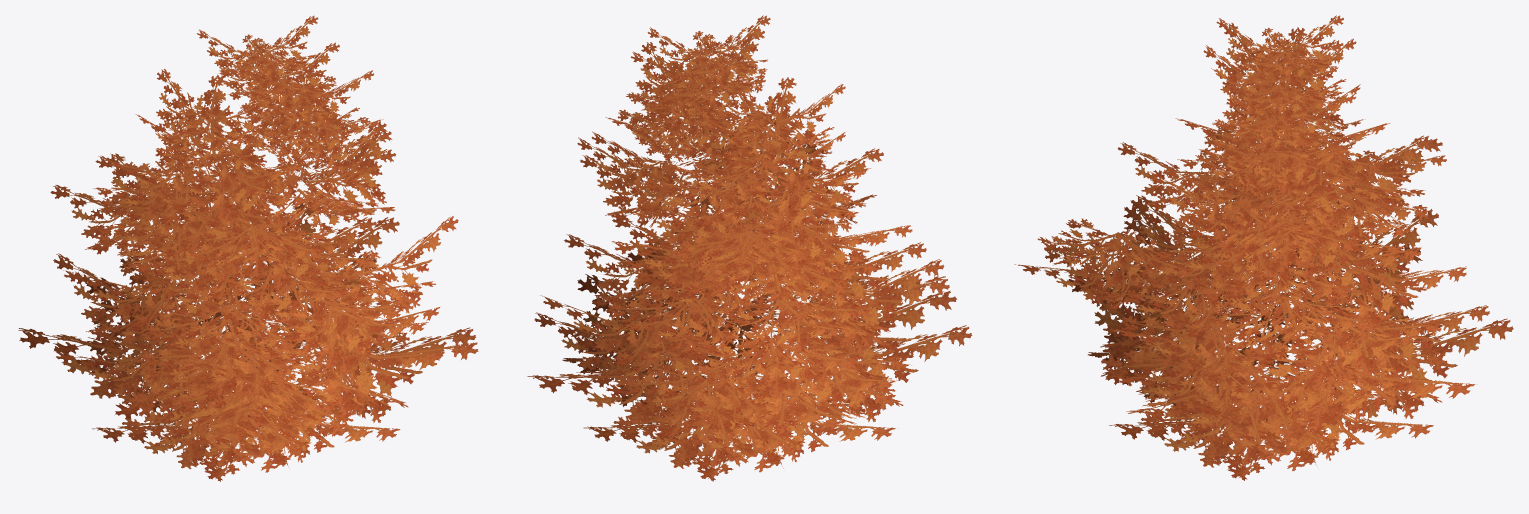
The picture shows the model from 3 angles, left to right: view 1: azimuth 30°, elevation 25°; view 2: azimuth 150°, elevation 25°; view 3: azimuth 270°, elevation 25°; orthographic projection. The views are drawn at different scales.
Visible parts, largest first — view 1: body0_model0_lod0_mesh0; view 2: body0_model0_lod0_mesh0; view 3: body0_model0_lod0_mesh0.
Part boxes in pixels (x1,y1,x2,y2): body0_model0_lod0_mesh0: [18, 15, 478, 481]; body0_model0_lod0_mesh0: [527, 15, 972, 481]; body0_model0_lod0_mesh0: [1014, 15, 1513, 480].
Bounding box in the file's own units: 558 × 559 × 591.
Materials: 1 (1 with a texture image).
